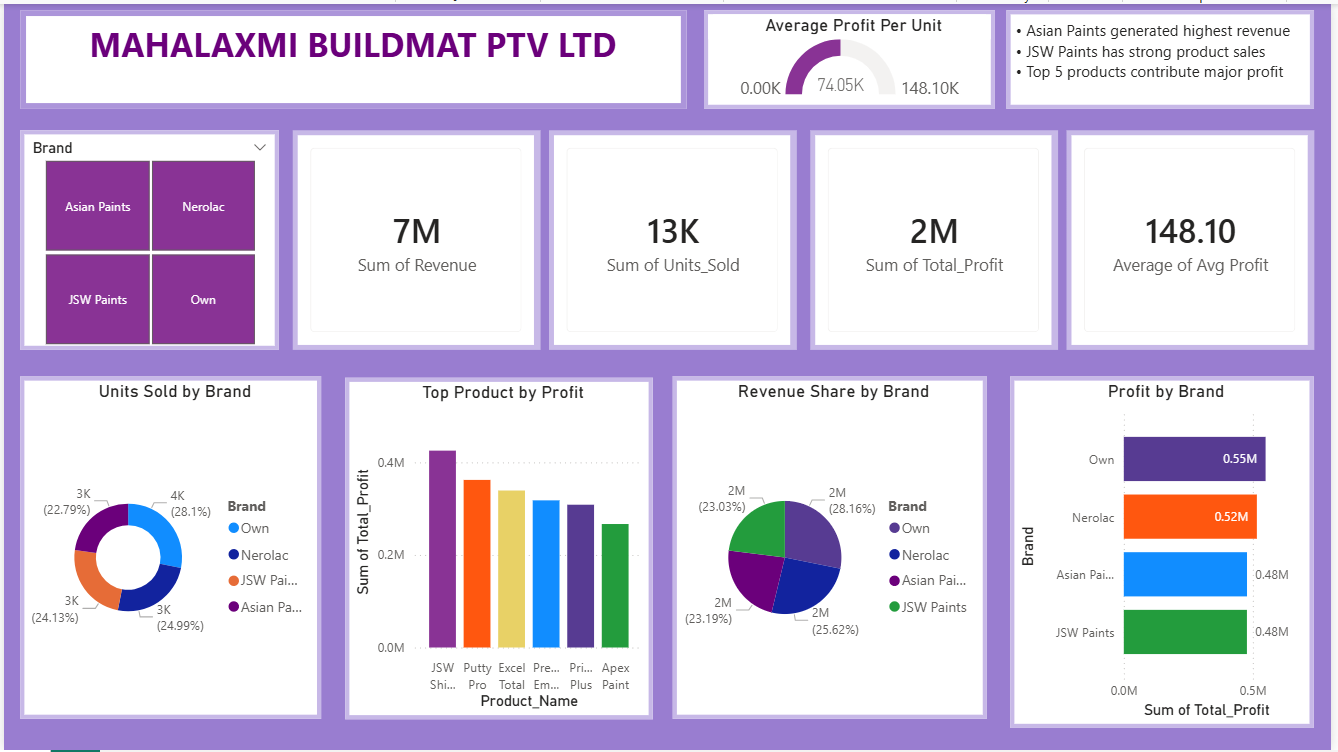

The dashboard page shown, as its layout file describes it:
{"tool":"powerbi","page":{"name":"Page 1","canvas":[1280,720],"ordinal":0},"visuals":[{"type":"cardVisual","fields":{"Data":["Sum(Brand_Profit.Revenue)"]},"box":[278.7,121.9,238.9,222],"z":0},{"type":"cardVisual","fields":{"Data":["Avg(Brand_Profit.Avg Profit)"]},"box":[1025.5,121.9,238.9,222],"z":1000},{"type":"cardVisual","fields":{"Data":["Sum(Brand_Profit.Units_Sold)"]},"box":[526,121.9,238.9,222],"z":2000},{"type":"cardVisual","fields":{"Data":["Sum(Brand_Profit.Total_Profit)"]},"box":[778.2,121.9,238.9,222],"z":3000},{"type":"clusteredBarChart","title":"Profit by Brand","fields":{"Category":["Brand_Profit.Brand"],"Y":["Sum(Brand_Profit.Total_Profit)"]},"box":[971.2,359.5,293.2,339],"z":4000},{"type":"pieChart","title":"Revenue Share by Brand","fields":{"Category":["Brand_Profit.Brand"],"Y":["Sum(Brand_Profit.Revenue)"]},"box":[645.4,359.5,302.8,330.6],"z":5000},{"type":"clusteredColumnChart","title":"Top Product by Profit","fields":{"Category":["Brand_Profit.Product_Name"],"Y":["Sum(Brand_Profit.Total_Profit)"]},"box":[329.4,360.7,296.8,329.4],"z":6000},{"type":"slicer","fields":{"Values":["Brand_Profit.Brand"]},"box":[15.7,121.9,249.7,222],"z":7000},{"type":"textbox","box":[15.7,6,643,95.3],"z":8000},{"type":"donutChart","title":"Units Sold by Brand","fields":{"Y":["Sum(Brand_Profit.Units_Sold)"],"Category":["Brand_Profit.Brand"]},"box":[15.7,359.5,290.8,330.6],"z":9000},{"type":"textbox","box":[967.6,6,296.8,95.3],"z":10000},{"type":"gauge","title":"Average Profit Per Unit","fields":{"Y":["Sum(Brand_Profit.Avg Profit)"]},"box":[675.6,6,281.1,95.3],"z":11000}]}

Visuals, with their boxes in screenshot pixels (x1, y1, x2, y2), scaled from the page's 1280x720 canvas onto the 1338x752 screenshot:
cardVisual - Sum(Brand_Profit.Revenue): detection(291, 127, 541, 359)
cardVisual - Avg(Brand_Profit.Avg Profit): detection(1072, 127, 1322, 359)
cardVisual - Sum(Brand_Profit.Units_Sold): detection(550, 127, 800, 359)
cardVisual - Sum(Brand_Profit.Total_Profit): detection(813, 127, 1063, 359)
"Profit by Brand" clusteredBarChart: detection(1015, 375, 1322, 730)
"Revenue Share by Brand" pieChart: detection(675, 375, 991, 721)
"Top Product by Profit" clusteredColumnChart: detection(344, 377, 655, 721)
slicer - Brand_Profit.Brand: detection(16, 127, 277, 359)
textbox: detection(16, 6, 689, 106)
"Units Sold by Brand" donutChart: detection(16, 375, 320, 721)
textbox: detection(1011, 6, 1322, 106)
"Average Profit Per Unit" gauge: detection(706, 6, 1000, 106)
